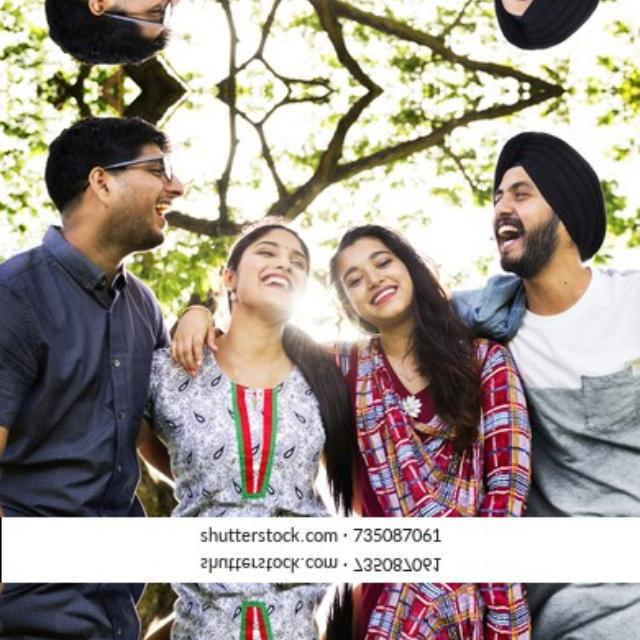person: (2, 106, 182, 550), (474, 126, 640, 514), (318, 216, 514, 516), (181, 216, 329, 518), (2, 549, 182, 640), (2, 0, 182, 74), (318, 582, 514, 640), (474, 584, 640, 640), (474, 0, 640, 54), (181, 580, 329, 640)
